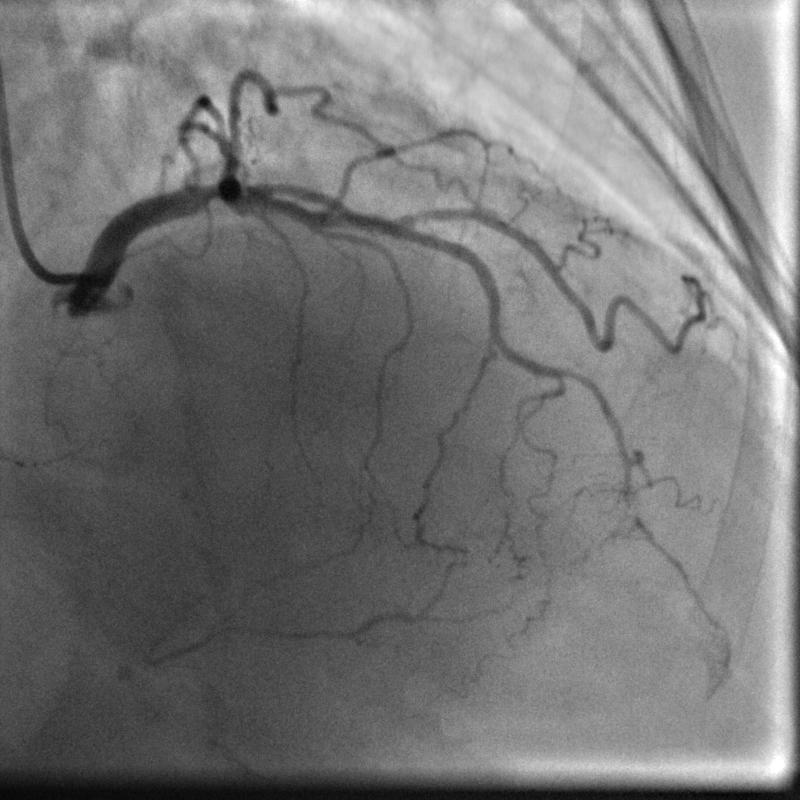Stenosis: (388, 194, 455, 237)
